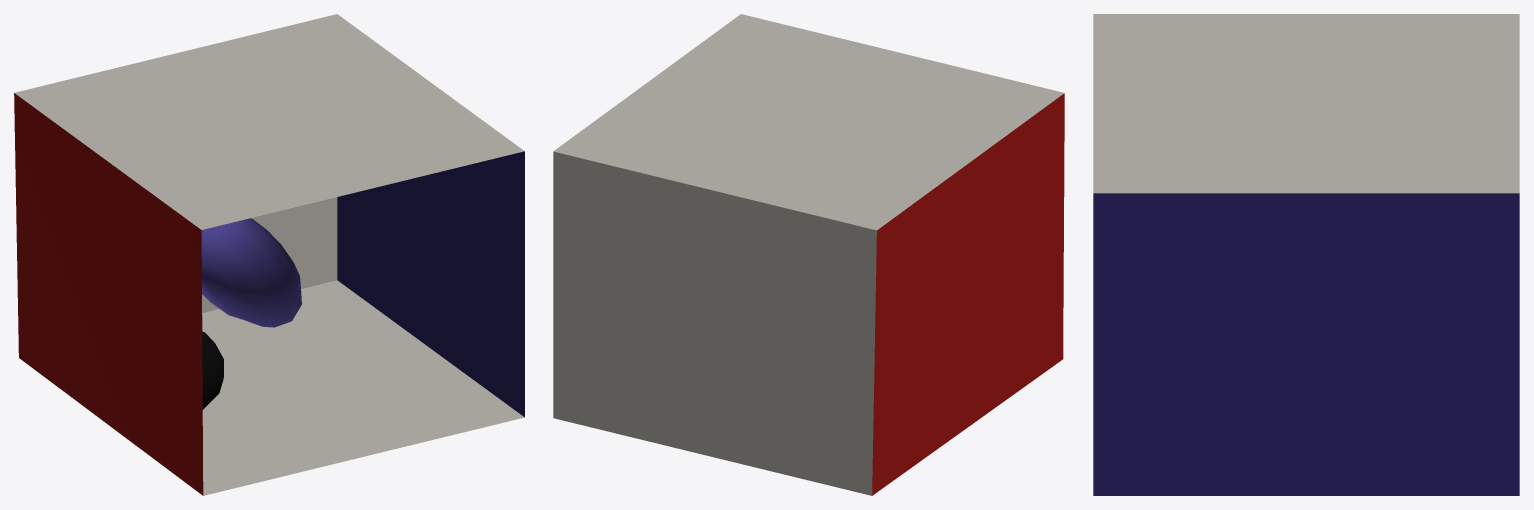
The model's file is CornellBox-Ellipsoid-235.obj.
3 renders of one model, left to right at view 1: azimuth 30°, elevation 25°; view 2: azimuth 150°, elevation 25°; view 3: azimuth 270°, elevation 25°, orthographic. The views are drawn at different scales.
Parts seen in each view (by area): view 1: ceiling, leftWall, floor, rightWall, leftSphere, backWall, rightSphere; view 2: backWall, ceiling, leftWall; view 3: rightWall, ceiling.
Boxes of the visible parts, x1,y1,x2,y2 form: ceiling: (14, 14, 524, 229); leftWall: (14, 93, 203, 495); floor: (202, 280, 524, 495); rightWall: (337, 151, 524, 417); leftSphere: (201, 218, 301, 327); backWall: (202, 197, 337, 312); rightSphere: (202, 331, 223, 409); backWall: (553, 151, 876, 495); ceiling: (553, 14, 1064, 230); leftWall: (872, 93, 1064, 495); rightWall: (1093, 193, 1519, 495); ceiling: (1093, 14, 1519, 193).
Size of the model in its own units: 2.02 by 1.59 by 2.03.
